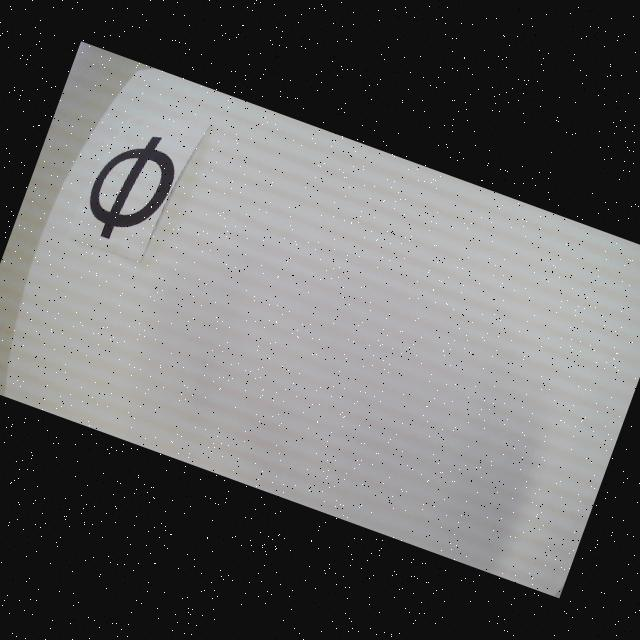PHI: (77, 121, 186, 254)
